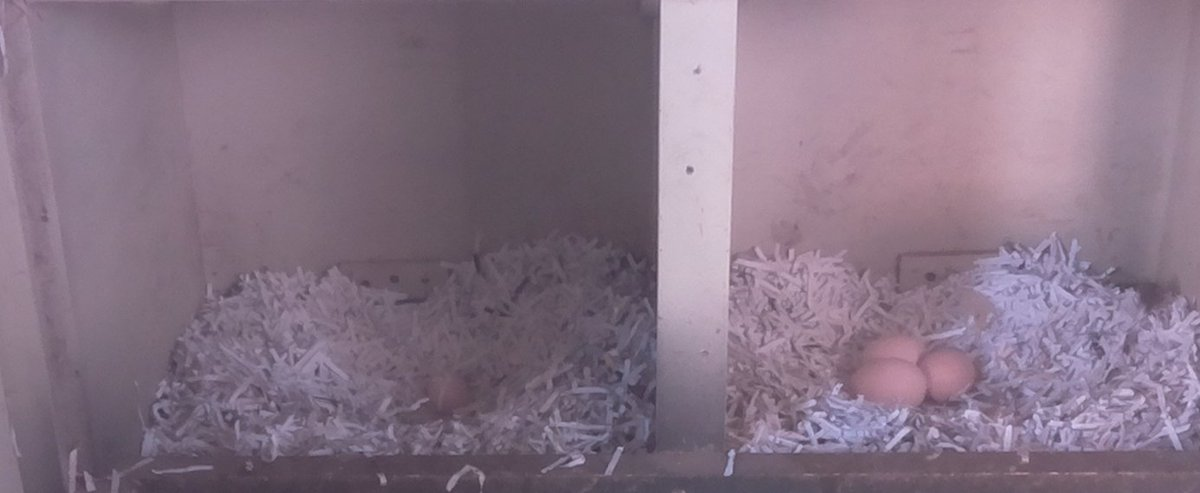egg: (845, 356, 927, 413), (915, 342, 982, 403), (420, 366, 479, 418), (855, 333, 931, 370)
